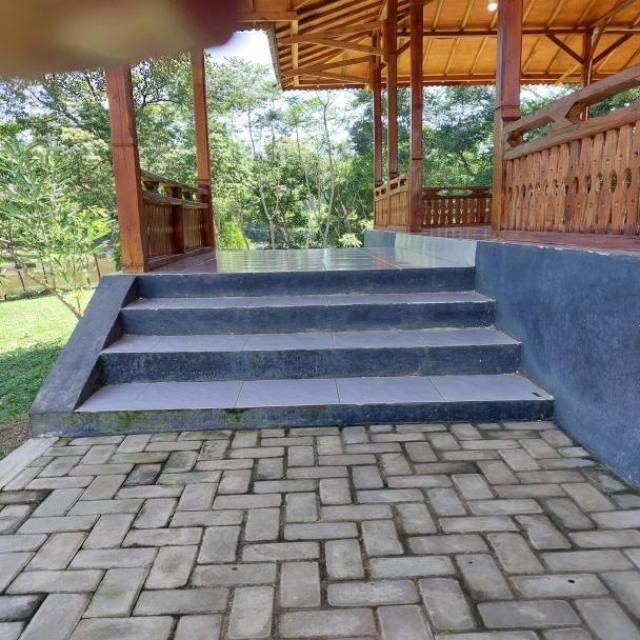stairs ahead at: (73, 263, 556, 430)
